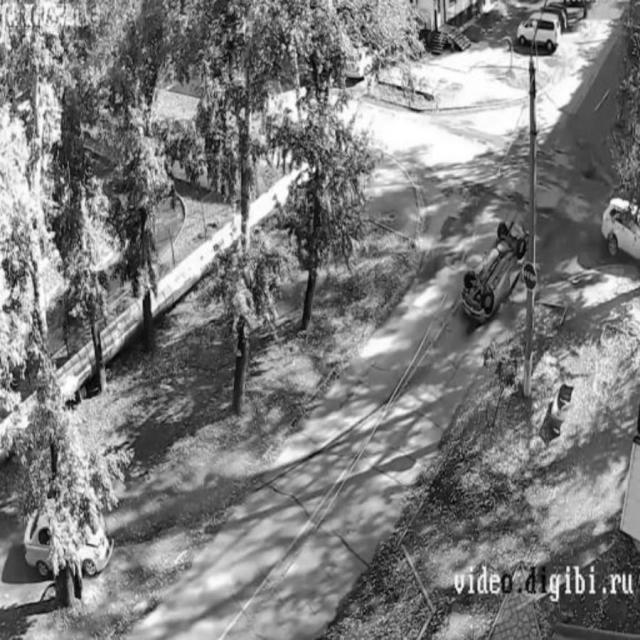vehicle: (23, 492, 115, 573), (463, 226, 524, 312), (601, 182, 640, 255), (519, 6, 563, 52)
